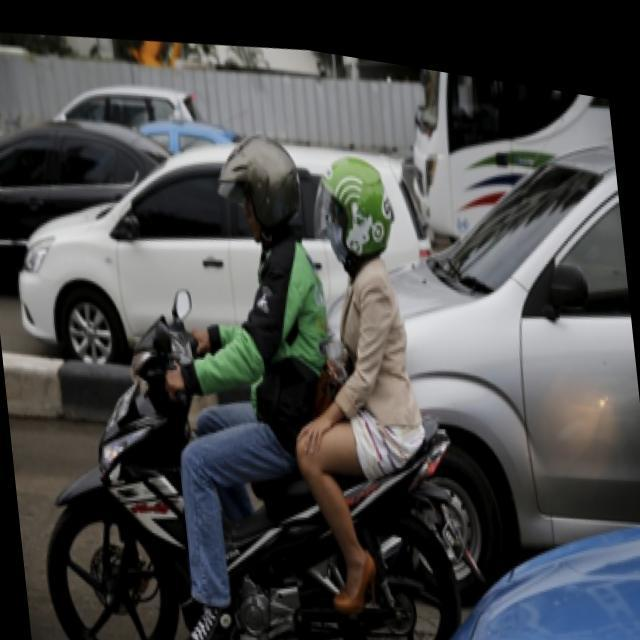Helmet: (200, 125, 304, 251), (307, 150, 402, 279)
